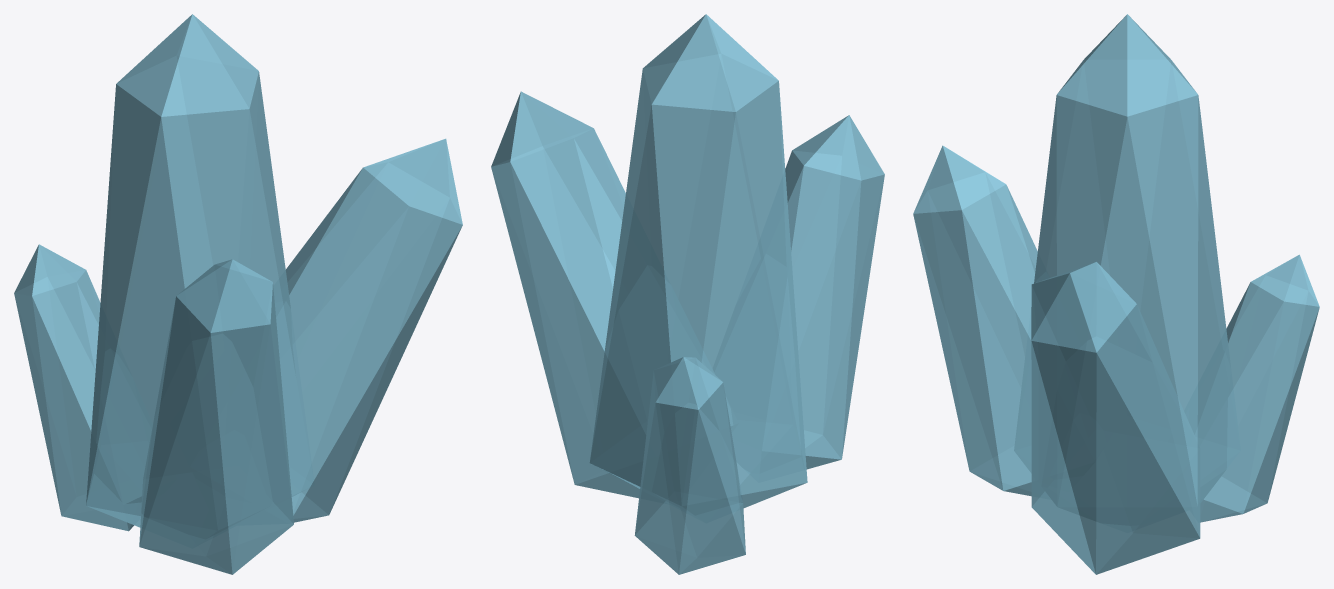
The model's file is Crystal.glb.
3 renders of one model, left to right at view 1: azimuth 30°, elevation 25°; view 2: azimuth 150°, elevation 25°; view 3: azimuth 270°, elevation 25°, orthographic. The views are drawn at different scales.
Parts seen in each view (by area): view 1: Icosphere.003; view 2: Icosphere.003; view 3: Icosphere.003.
Boxes of the visible parts, x1=… form: Icosphere.003: x1=14, y1=14, x2=462, y2=574; Icosphere.003: x1=491, y1=14, x2=884, y2=574; Icosphere.003: x1=913, y1=14, x2=1319, y2=574.
Bounding box in the file's own units: 4.68 × 6.9 × 4.88.
